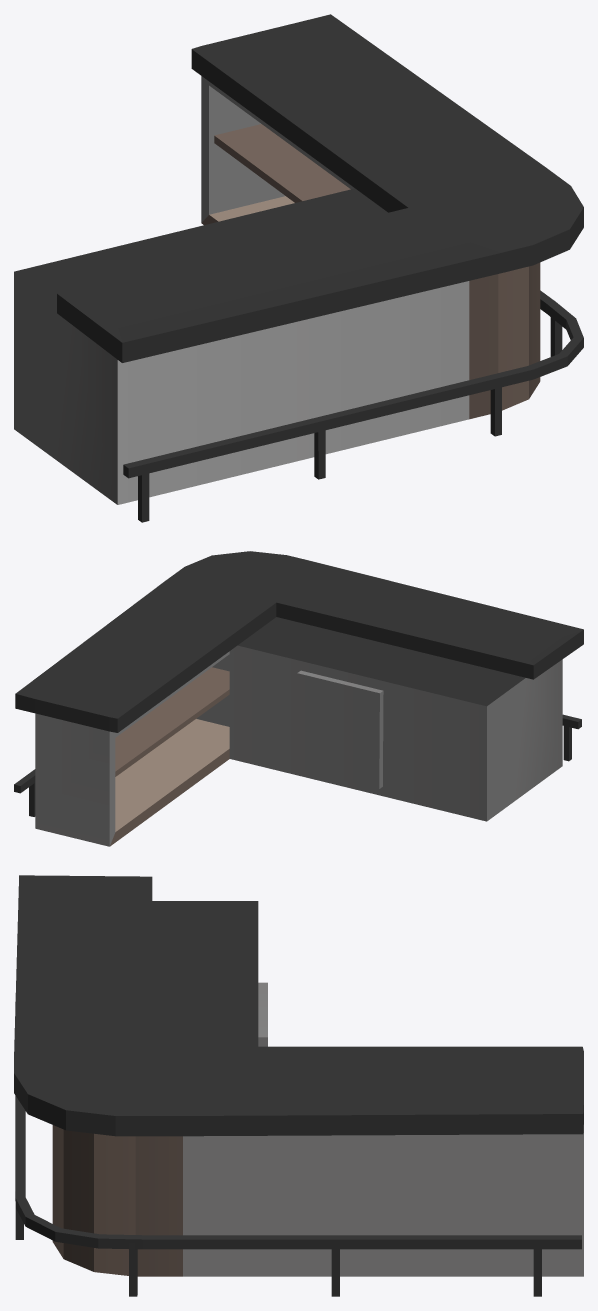
The model's file is B01_Bar_1_modulair.fbx.
The picture shows the model from 3 angles, top to bottom: view 1: azimuth 30°, elevation 25°; view 2: azimuth 150°, elevation 25°; view 3: azimuth 270°, elevation 25°; orthographic projection. The views are drawn at different scales.
Parts seen in each view (by area): view 1: B01_Bar_1_modulair; view 2: B01_Bar_1_modulair; view 3: B01_Bar_1_modulair.
Boxes of the visible parts, x1,y1,x2,y2 form: B01_Bar_1_modulair: [14, 14, 583, 522]; B01_Bar_1_modulair: [14, 551, 583, 846]; B01_Bar_1_modulair: [14, 875, 583, 1296].
Size of the model in its own units: 271 by 95.24 by 271.
